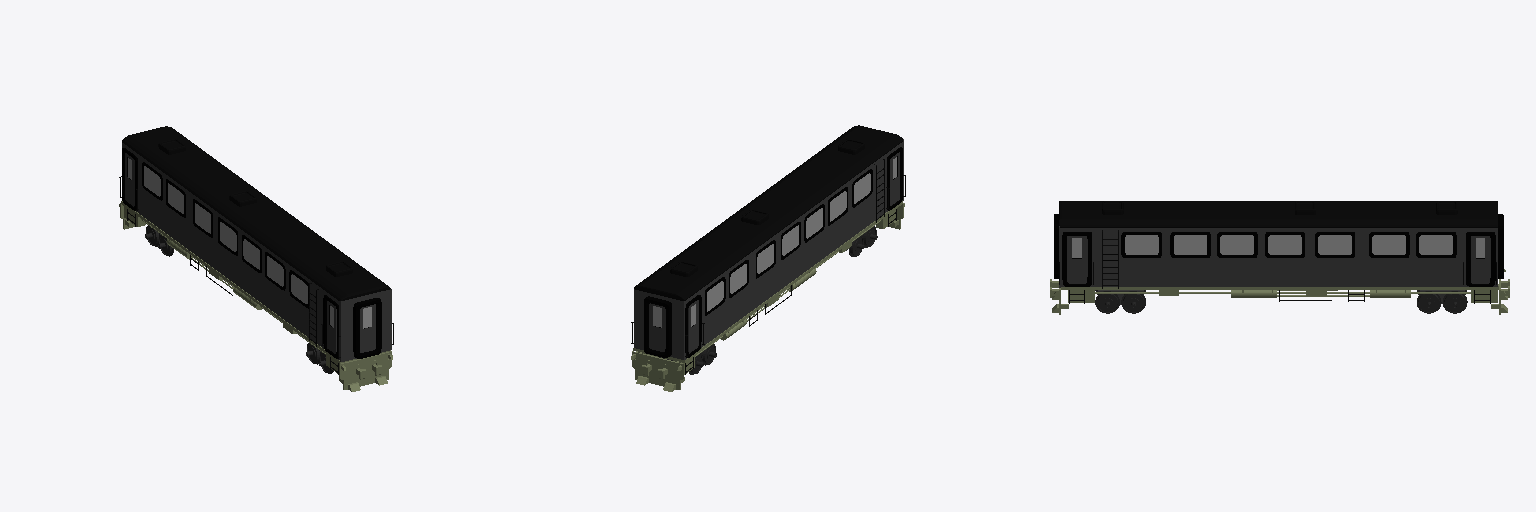
The model's file is TRAIN2.obj.
3 views of the same model, side by side, from view 1: azimuth 30°, elevation 25°; view 2: azimuth 150°, elevation 25°; view 3: azimuth 270°, elevation 25° (orthographic).
Visible parts, largest first — view 1: Cube.001_Cube.002, Cube.001, Plane.002_Plane.008, body.002_Plane.009, doors_Plane.014, doors.001_Plane.015; view 2: Cube.001_Cube.002, Cube.001, Plane.002_Plane.008, body.002_Plane.009, doors_Plane.014, doors.001_Plane.015, Plane.003_Plane.017; view 3: Cube.001, Cube.001_Cube.002, Plane.002_Plane.008, body.002_Plane.009, doors.001_Plane.015, doors_Plane.014, wheel.003_Circle.003, wheel.002_Circle.002, ladder.001_Circle.005.
Part boxes in pixels (left/top/right/bottom): Cube.001_Cube.002: left=122, top=126, right=390, bottom=300; Cube.001: left=122, top=143, right=391, bottom=361; Plane.002_Plane.008: left=125, top=153, right=375, bottom=353; body.002_Plane.009: left=119, top=201, right=392, bottom=391; doors_Plane.014: left=122, top=148, right=381, bottom=358; doors.001_Plane.015: left=142, top=162, right=308, bottom=308; Cube.001_Cube.002: left=634, top=125, right=902, bottom=300; Cube.001: left=634, top=139, right=903, bottom=359; Plane.002_Plane.008: left=688, top=152, right=899, bottom=353; body.002_Plane.009: left=631, top=201, right=904, bottom=391; doors_Plane.014: left=644, top=147, right=902, bottom=357; doors.001_Plane.015: left=705, top=169, right=872, bottom=315; Plane.003_Plane.017: left=649, top=303, right=665, bottom=351; Cube.001: left=1059, top=226, right=1497, bottom=287; Cube.001_Cube.002: left=1059, top=201, right=1497, bottom=227; Plane.002_Plane.008: left=1067, top=235, right=1489, bottom=283; body.002_Plane.009: left=1050, top=269, right=1509, bottom=314; doors.001_Plane.015: left=1121, top=232, right=1456, bottom=257; doors_Plane.014: left=1054, top=214, right=1503, bottom=286; wheel.003_Circle.003: left=1095, top=290, right=1145, bottom=313; wheel.002_Circle.002: left=1417, top=290, right=1467, bottom=313; ladder.001_Circle.005: left=1059, top=230, right=1496, bottom=303.
Bounding box in the file's own units: 6.03 × 10.31 × 42.48.